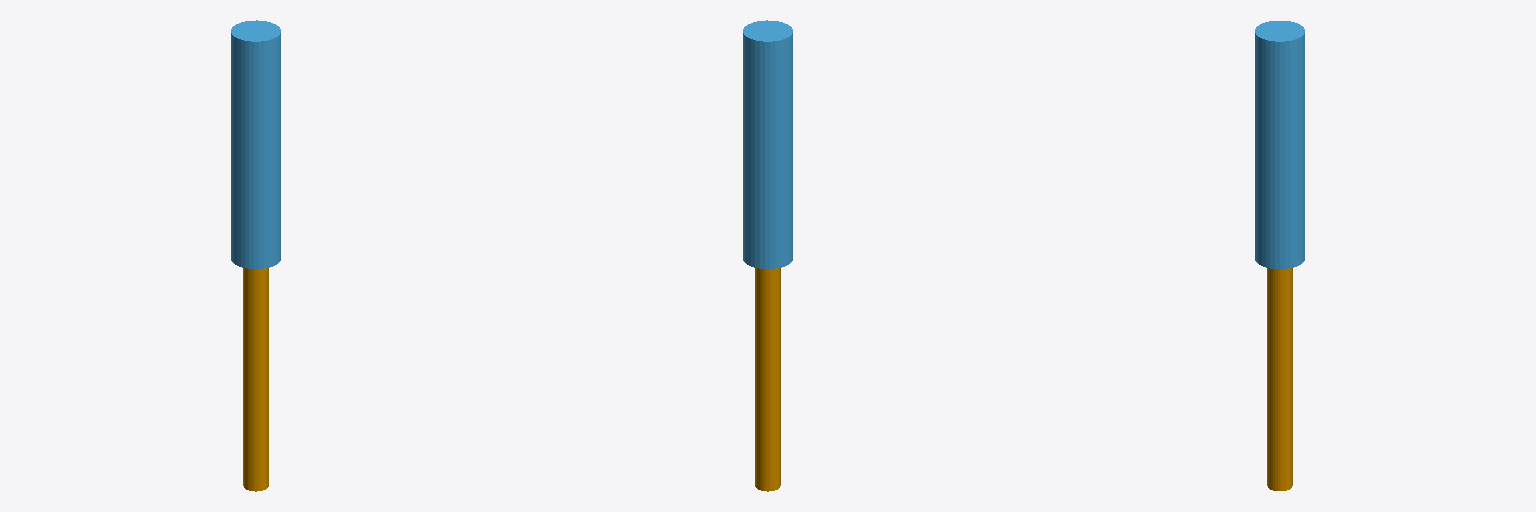
The robot description file, URDF, robot "screwdriver_on_the_table":
<?xml version="1.0" ?>
<!-- this is the one without any virtual joints and links -->
<robot name="screwdriver_on_the_table">
<link name="screwdriver_stick">
    <inertial>
      <mass value="0.05"/>
      <!-- <friction value="1.0"/> -->
      <inertia ixx="0.000041979" ixy="0.0" ixz="0.0" iyy="0.000041979" iyz="0.0" izz="0.000000625"/>
    </inertial>
    <visual>
        <origin rpy="0 0 0" xyz="0 0 0.05"/>
        <geometry>
            <cylinder radius="0.005" length="0.1"/>
        </geometry>
        <!-- <material name="White">
	 	    <color rgba="0.9 0.9 0.9 0.5"/>
        </material> -->
    </visual>
    <collision>
        <origin rpy="0 0 0" xyz="0 0 0.05"/>
        <geometry>
            <cylinder radius="0.005" length="0.1"/>
        </geometry>
    </collision>
</link>

<gazebo reference="screwdriver_body">
    <mu1>0.700556</mu1>
    <mu2>0.594196</mu2>
    <!-- Isaac Sim maps mu1/mu2 to PhysX static/dynamic friction during URDF→USD import -->
</gazebo>

<joint name="screwdriver_stick_body_joint" type="fixed">
    <parent link="screwdriver_stick"/>
    <child link="screwdriver_body"/>
    <origin rpy="0 0 0" xyz="0 0 0.1"/> 
    <axis xyz="0 0 1"/>
</joint>

<link name="screwdriver_body">
    <inertial>
      <mass value="0.100582"/>
      <inertia ixx="0.000086350" ixy="0.0" ixz="0.0" iyy="0.000086350" iyz="0.0" izz="0.000010000"/>
    </inertial>
    <visual>
        <origin rpy="0 0 0" xyz="0 0 0.05"/>
        <geometry>
            <cylinder radius="0.010033" length="0.1"/>
        </geometry>
        <!-- <material name="Red1">
	 	    <color rgba="0.9 0. 0. 0.5"/>
        </material> -->
    </visual>
    <collision>
        <origin rpy="0 0 0" xyz="0 0 0.05"/>
        <geometry>
            <cylinder radius="0.010033" length="0.1"/>
        </geometry>
    </collision>
</link>

<!-- <joint name="screwdriver_body_cap_joint" type="revolute">
    <parent link="screwdriver_body"/>
    <child link="screwdriver_cap"/>
    <origin rpy="0 0 0" xyz="0 0 0.1"/> 
    <axis xyz="0 0 1"/>
</joint>

<link name="screwdriver_cap">
    <inertial>
      <mass value="0.005"/>
      <inertia ixx="0.00001" ixy="0.0" ixz="0.0" iyy="0.000005" iyz="0.0" izz="0.000005"/>
    </inertial>
    <visual>
        <origin rpy="0 0 0" xyz="0 0 0.0006"/>
        <geometry>
            <cylinder radius="0.02" length="0.001"/>
        </geometry>
        <material name="Yellow">
	 	    <color rgba="0.9 0.9 0. 1.0"/>
        </material>
    </visual>
    <collision>
        <origin rpy="0 0 0" xyz="0 0 0.0005"/>
        <geometry>
            <cylinder radius="0.02" length="0.001"/>
        </geometry>
    </collision>
</link> -->

</robot>

--- What the picture shows (computed from the rendered views, not written in the file) ---
Views: 3 orthographic renders of the robot side by side, from view 1: azimuth 30°, elevation 25°; view 2: azimuth 150°, elevation 25°; view 3: azimuth 270°, elevation 25°.
Model screwdriver_on_the_table with 2 links and 1 joints (1 fixed), rooted at screwdriver_stick, posed every joint at zero.
Visible links, largest first — view 1: screwdriver_body, screwdriver_stick; view 2: screwdriver_body, screwdriver_stick; view 3: screwdriver_body, screwdriver_stick.
Boxes of the visible links, bbox=[...] form: screwdriver_body: bbox=[231, 20, 280, 268]; screwdriver_stick: bbox=[243, 268, 268, 491]; screwdriver_body: bbox=[743, 20, 792, 268]; screwdriver_stick: bbox=[755, 268, 780, 491]; screwdriver_body: bbox=[1255, 21, 1304, 268]; screwdriver_stick: bbox=[1267, 268, 1292, 490].
Size in the robot's own frame: 0.0201 by 0.0201 by 0.2 metres.
Geometry: primitives only (box / cylinder / sphere), no mesh files.
